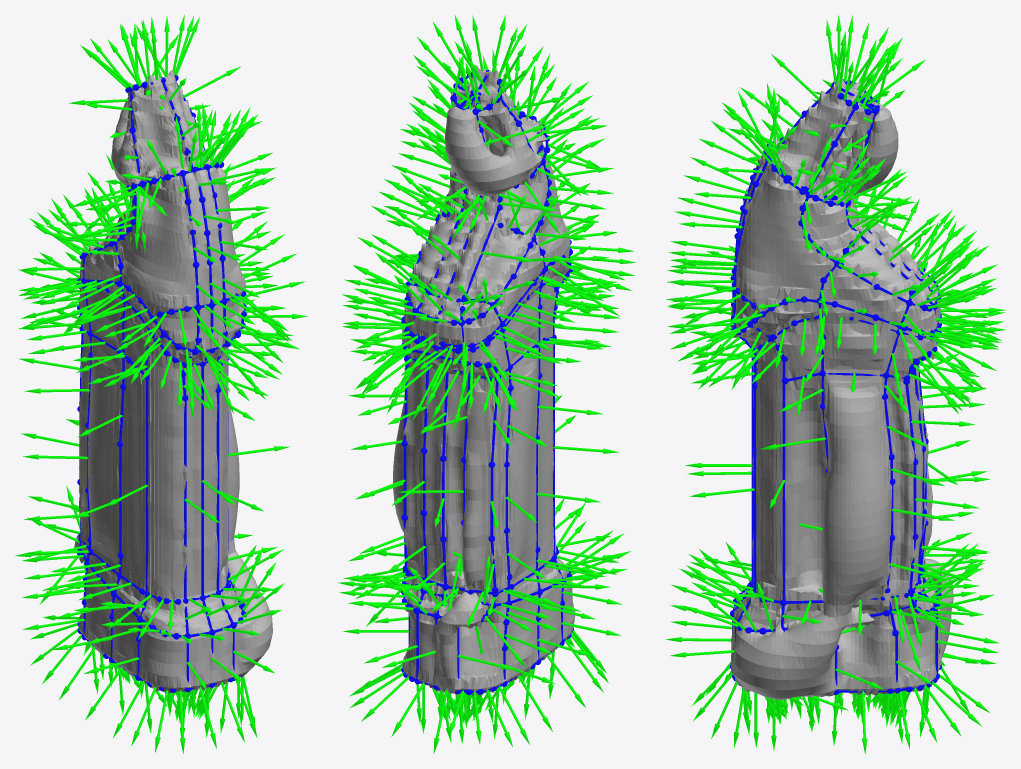
The model's file is flowrep_bottle.gltf.
3 renders of one model, left to right at view 1: azimuth 30°, elevation 25°; view 2: azimuth 150°, elevation 25°; view 3: azimuth 270°, elevation 25°, orthographic. The views are drawn at different scales.
Bounding box in the file's own units: 0.368 × 1.14 × 0.5004.
